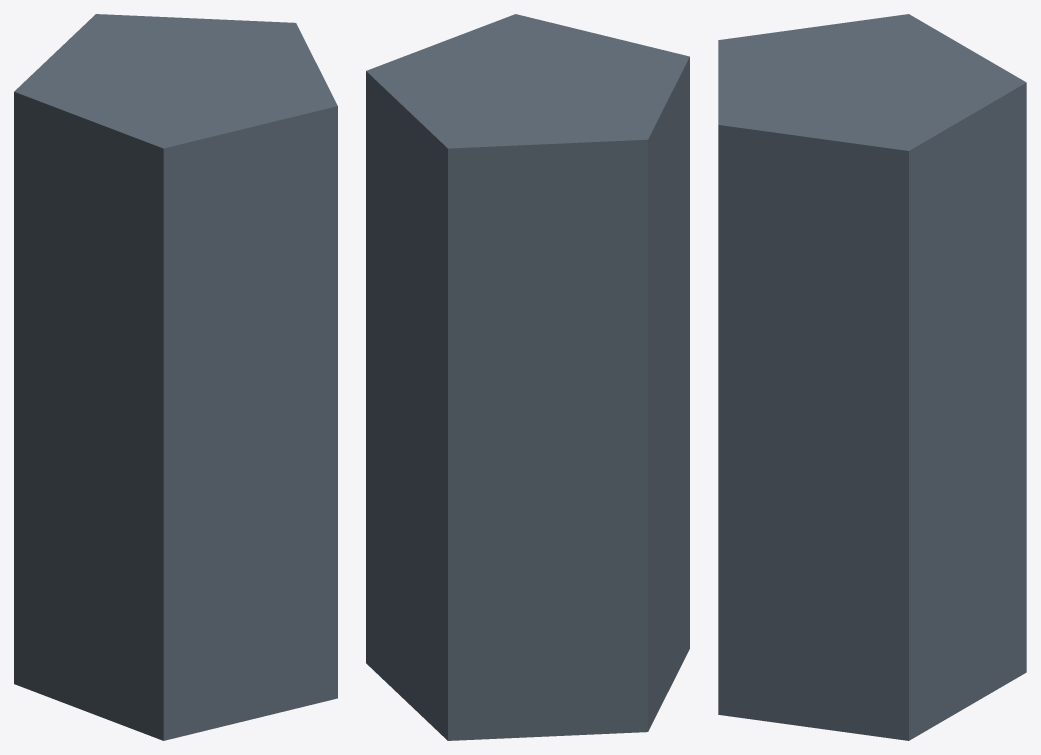
File: Column01.fbx
3 renders of one model, left to right at view 1: azimuth 30°, elevation 25°; view 2: azimuth 150°, elevation 25°; view 3: azimuth 270°, elevation 25°, orthographic.
Visible parts, largest first — view 1: Column01; view 2: Column01; view 3: Column01.
Boxes of the visible parts, x1,y1,x2,y2 form: Column01: (14, 14, 337, 740); Column01: (366, 14, 689, 740); Column01: (718, 14, 1026, 740).
Bounding box in the file's own units: 20.92 × 42 × 19.9.
Materials: 1 (1 with a texture image).
